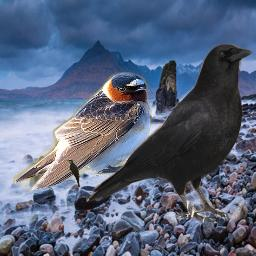Crow: (86, 40, 255, 225)
Cuckoo: (66, 159, 80, 188)
Swallow: (13, 72, 152, 195)
